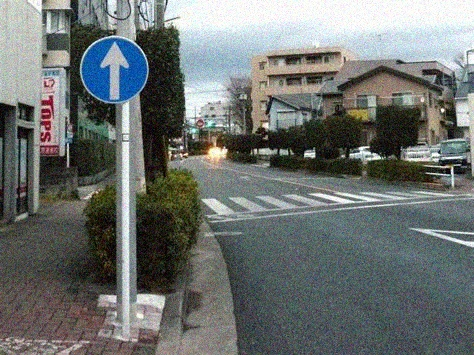Direction_sign: (78, 31, 154, 108)
